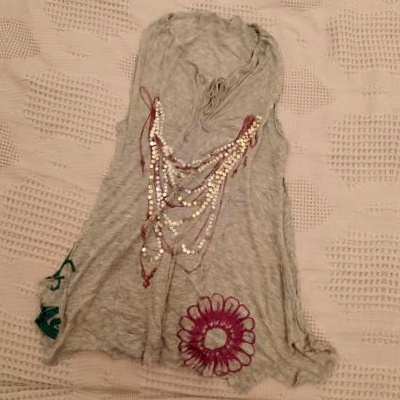Dress: (24, 3, 340, 385)
